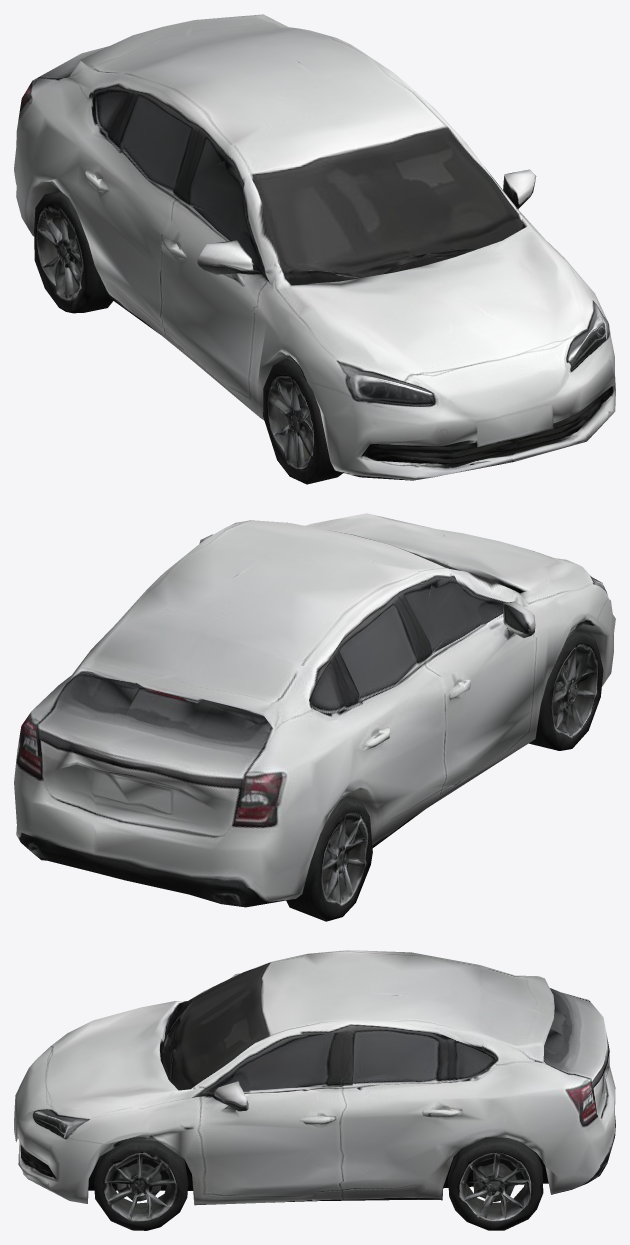
The model's file is sedan.glb.
3 renders of one model, top to bottom at view 1: azimuth 30°, elevation 25°; view 2: azimuth 150°, elevation 25°; view 3: azimuth 270°, elevation 25°, orthographic. The views are drawn at different scales.
Visible parts, largest first — view 1: tripo_node_f8f15301-2138-4b05-9a4d-998a3c259a6d; view 2: tripo_node_f8f15301-2138-4b05-9a4d-998a3c259a6d; view 3: tripo_node_f8f15301-2138-4b05-9a4d-998a3c259a6d.
Boxes of the visible parts, <box> form: tripo_node_f8f15301-2138-4b05-9a4d-998a3c259a6d: <box>14,14,615,484</box>; tripo_node_f8f15301-2138-4b05-9a4d-998a3c259a6d: <box>14,513,615,921</box>; tripo_node_f8f15301-2138-4b05-9a4d-998a3c259a6d: <box>14,950,615,1230</box>.
Size of the model in its own units: 0.4981 by 0.3629 by 0.9994.
Materials: 1 (1 with a texture image).
